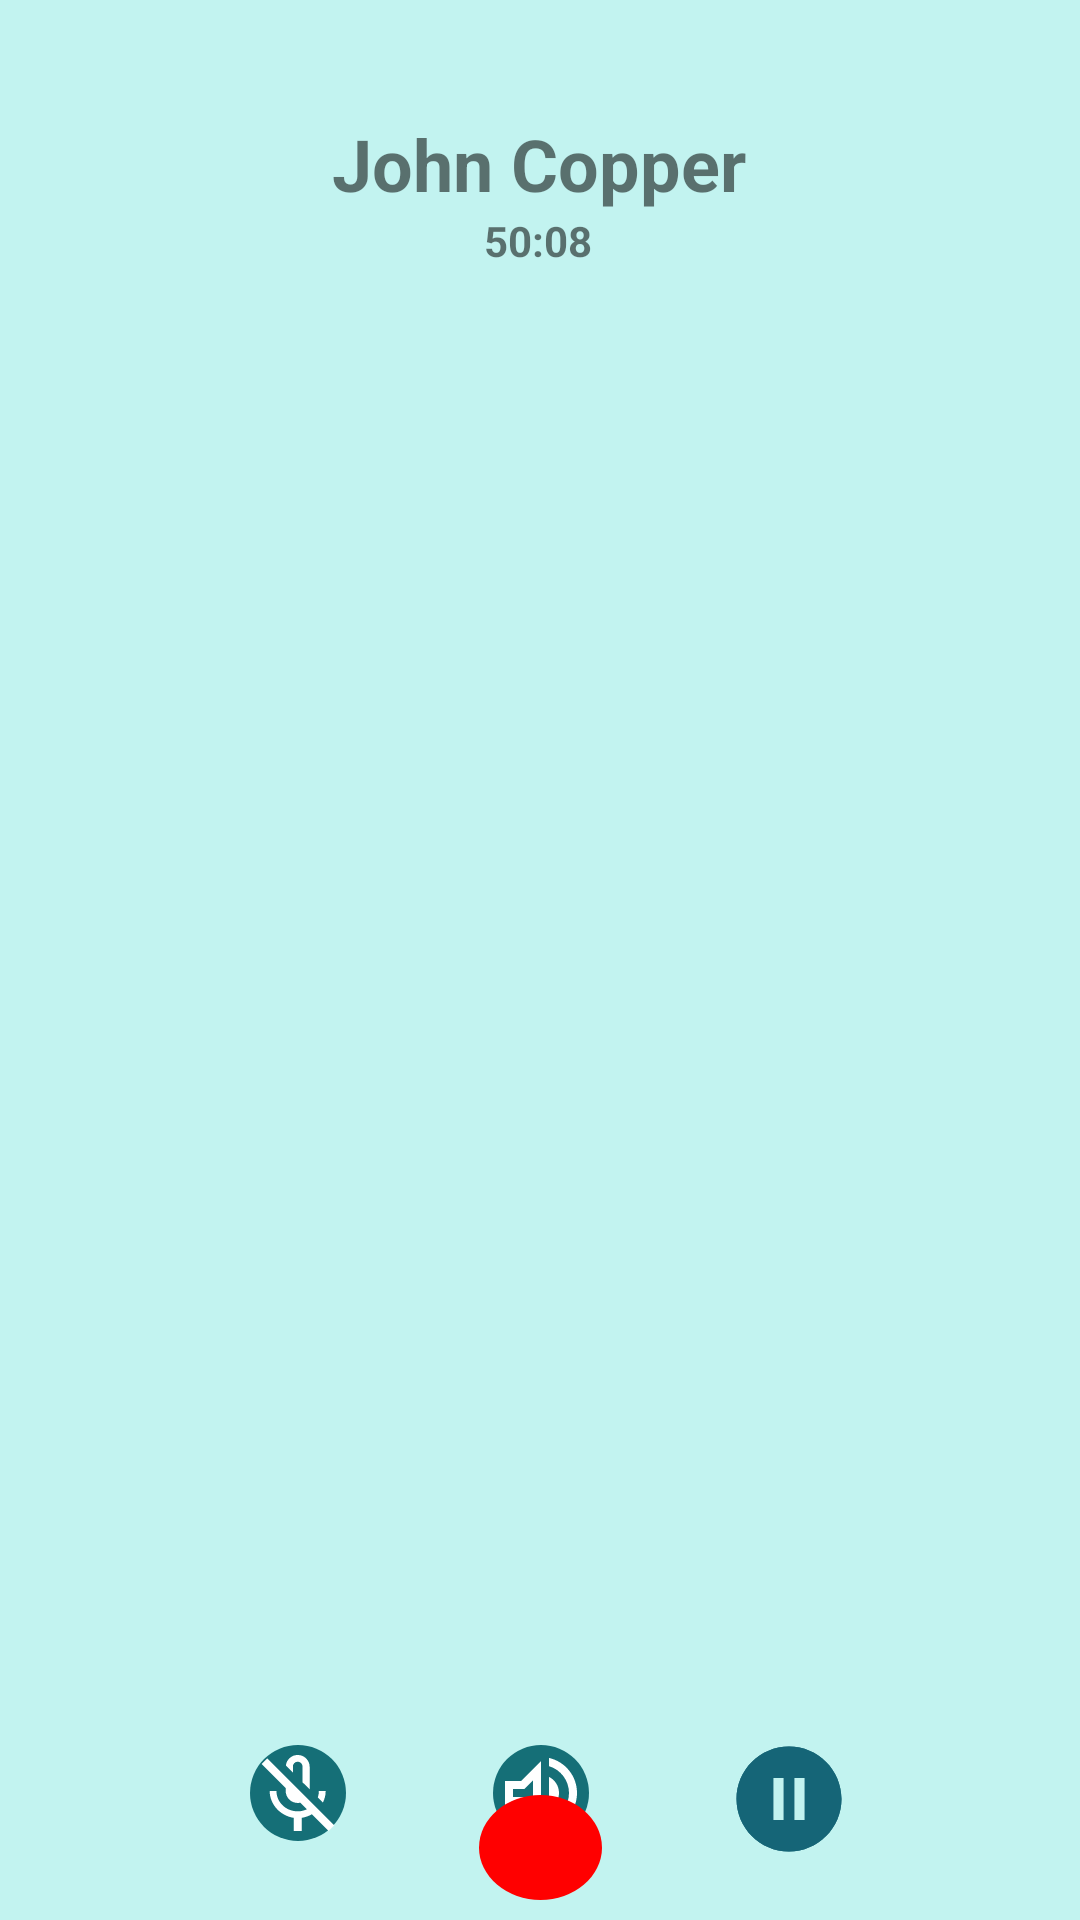

Screen size 1080px x 1920px. Icon name, then its center in pixels as point (x, y):
mic off: point (298, 1793)
pause circle: point (789, 1799)
